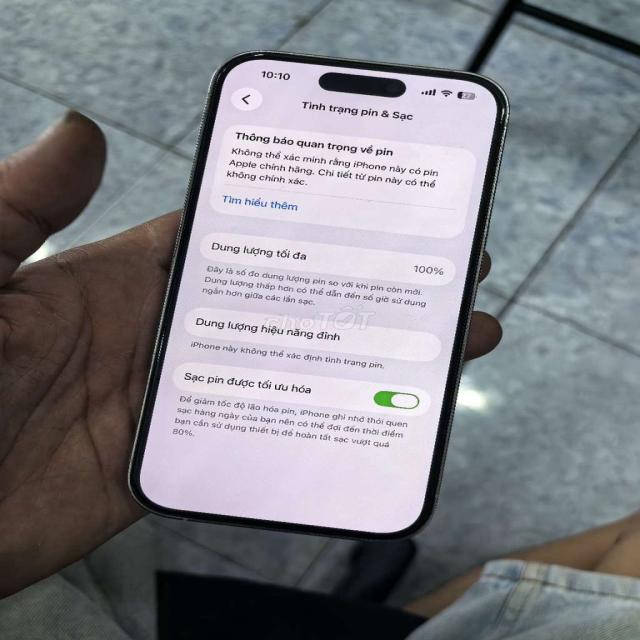gen_14: (118, 36, 513, 546)
